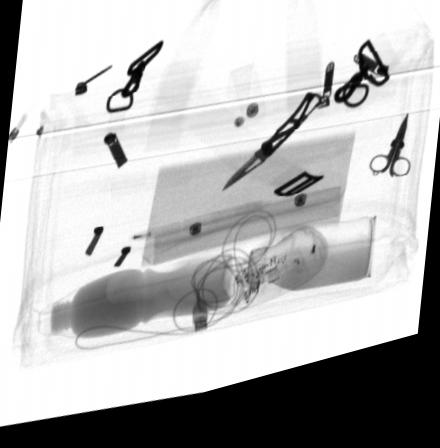Knife: (220, 107, 321, 202)
Scissors: (368, 133, 410, 199)
